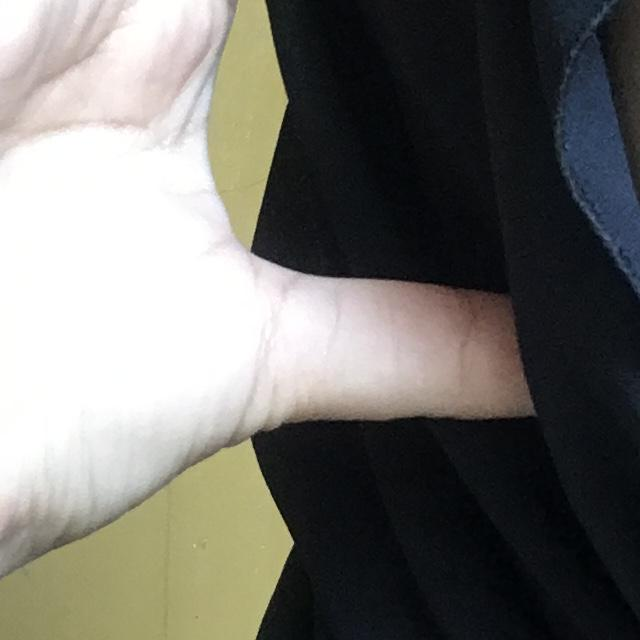mendengar: (0, 0, 560, 576)
